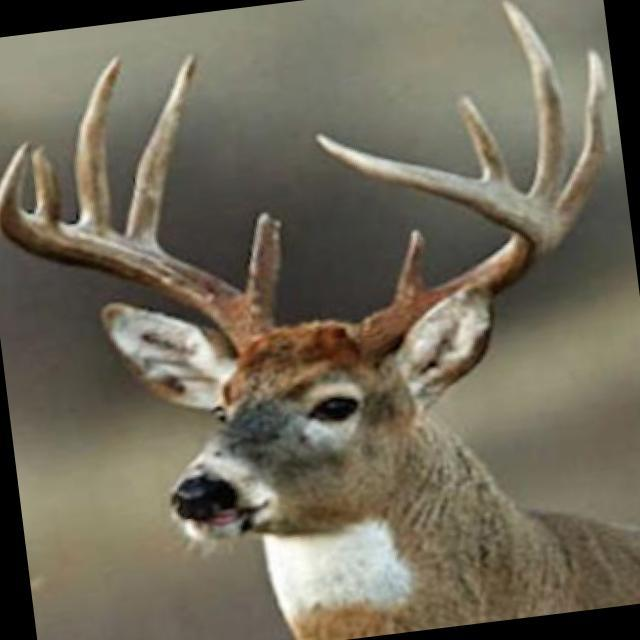L-F: (311, 129, 561, 366)
L-G1: (392, 226, 429, 305)
L-G2: (554, 46, 607, 237)
L-G3: (500, 0, 565, 210)
L-G4: (452, 92, 513, 186)
R-F: (0, 138, 278, 358)
R-G1: (245, 211, 282, 314)
R-G2: (125, 52, 200, 247)
R-G3: (72, 54, 124, 230)
R-G4: (30, 142, 61, 222)
